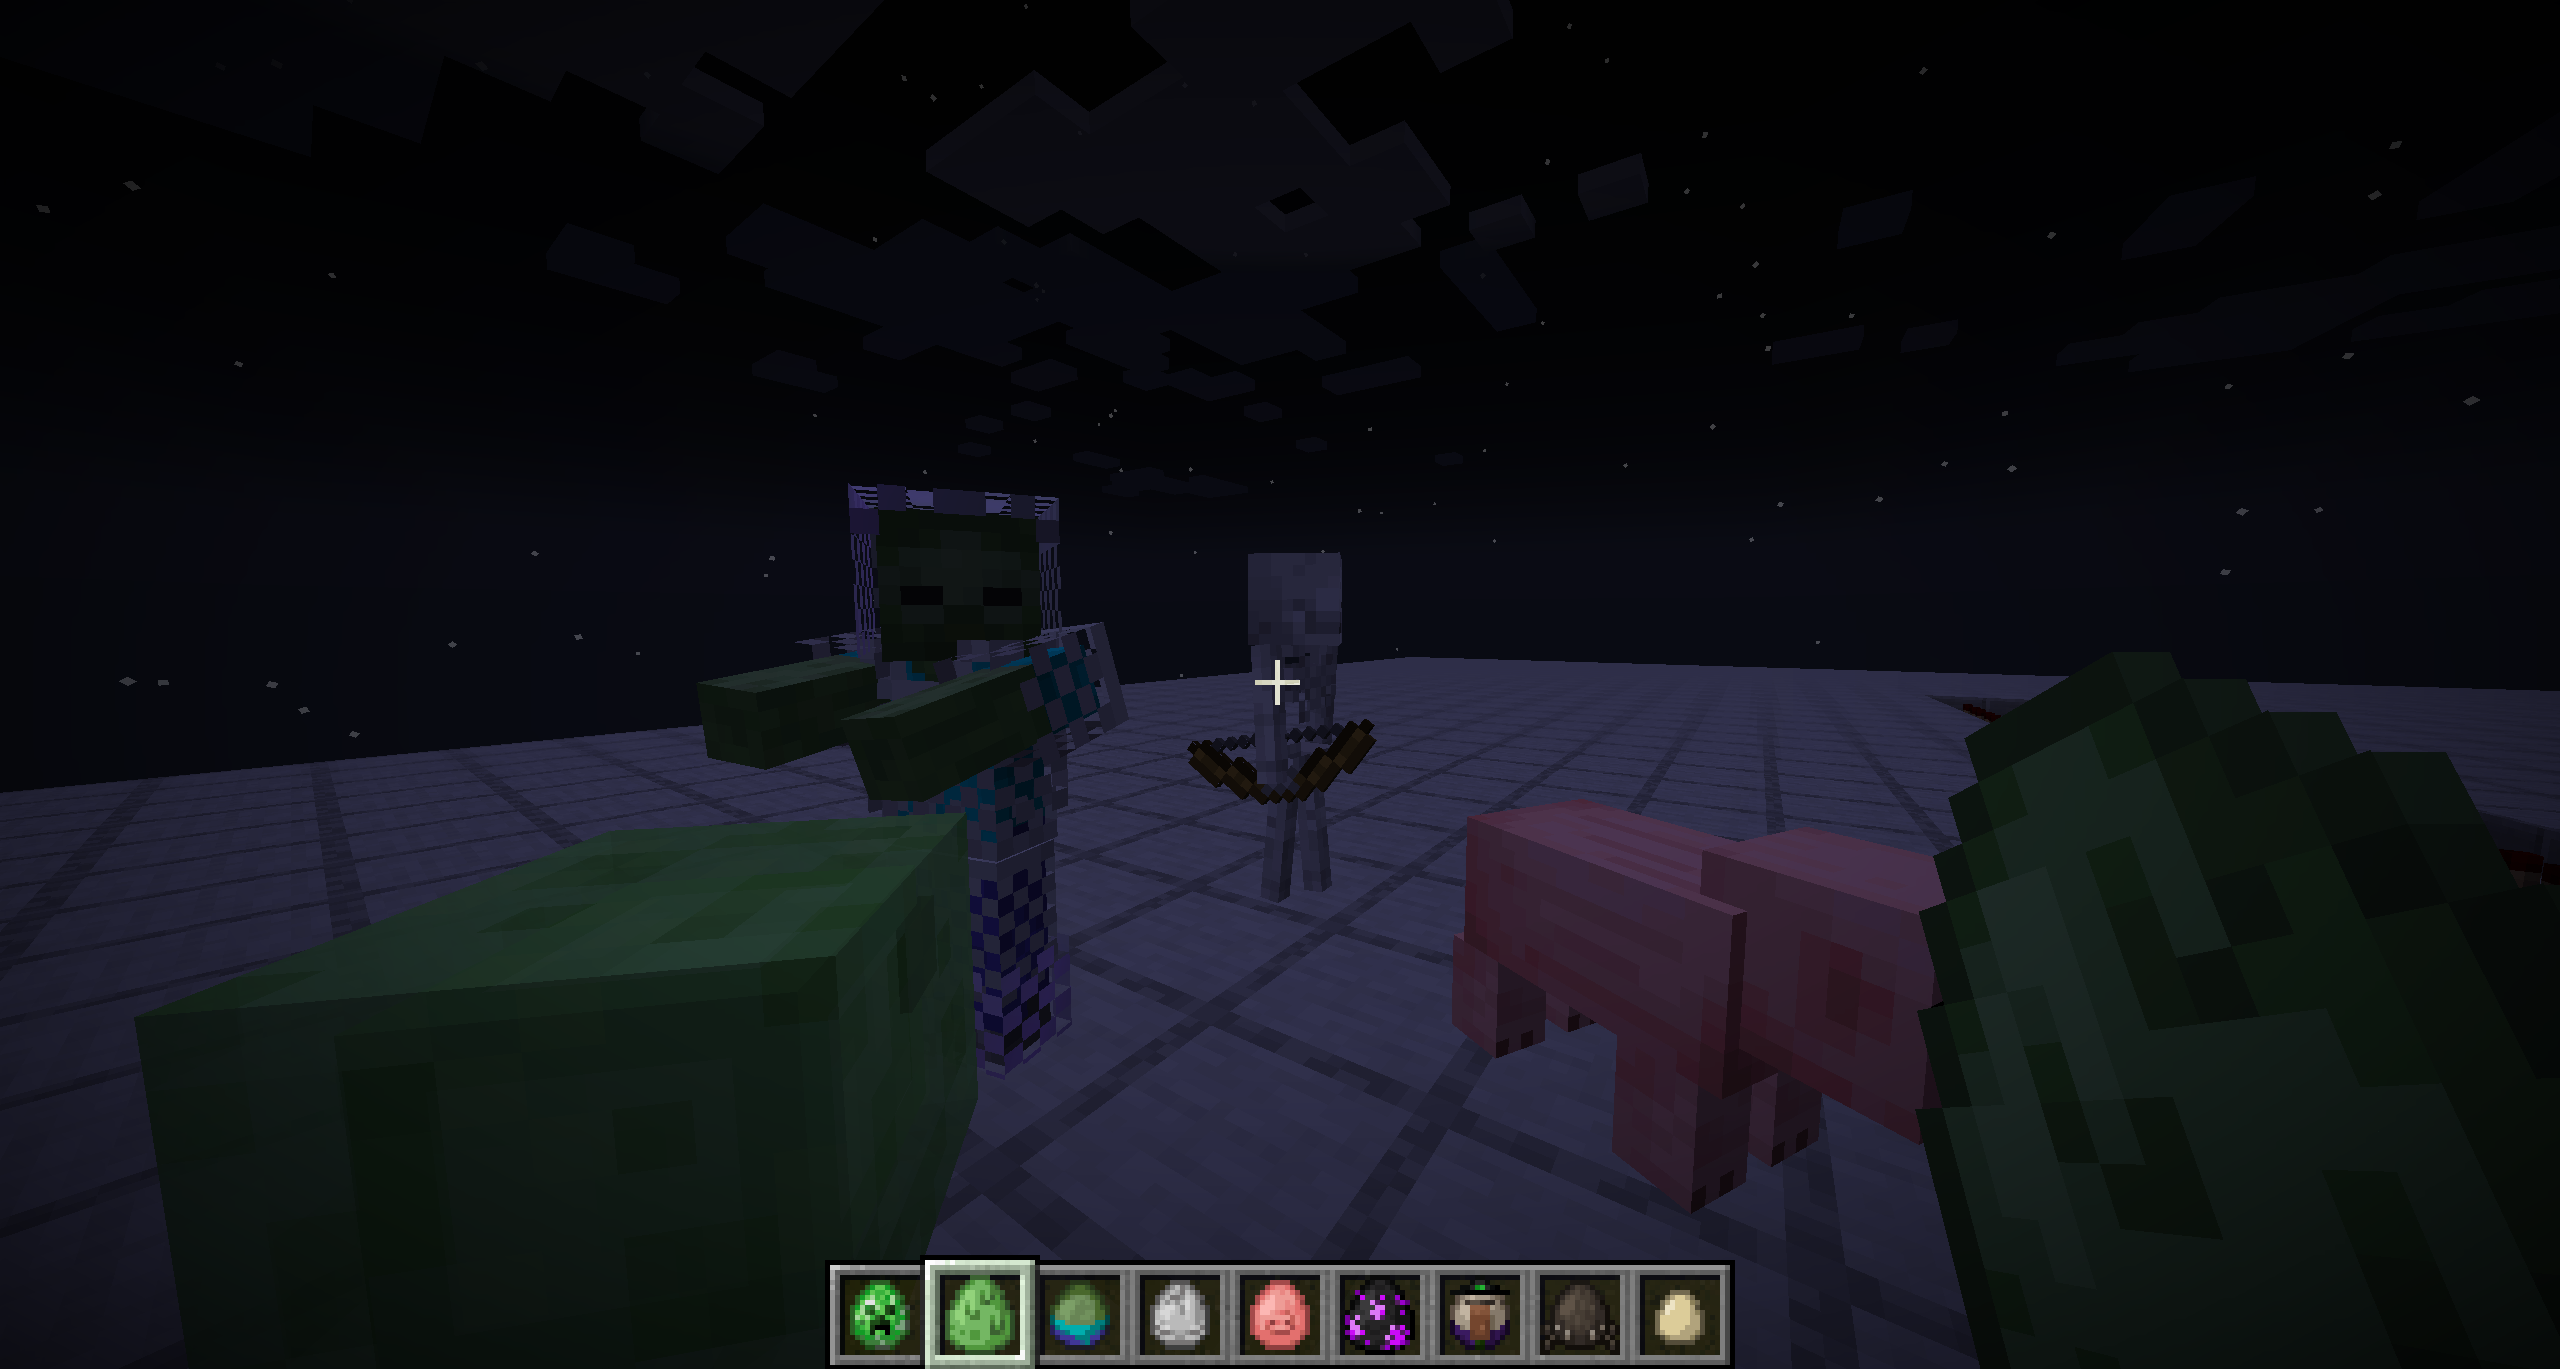cochons: (1470, 785, 1959, 1198)
slimes: (132, 833, 990, 1342)
squelettes: (1233, 550, 1348, 899)
zombies: (858, 499, 1063, 1068)
